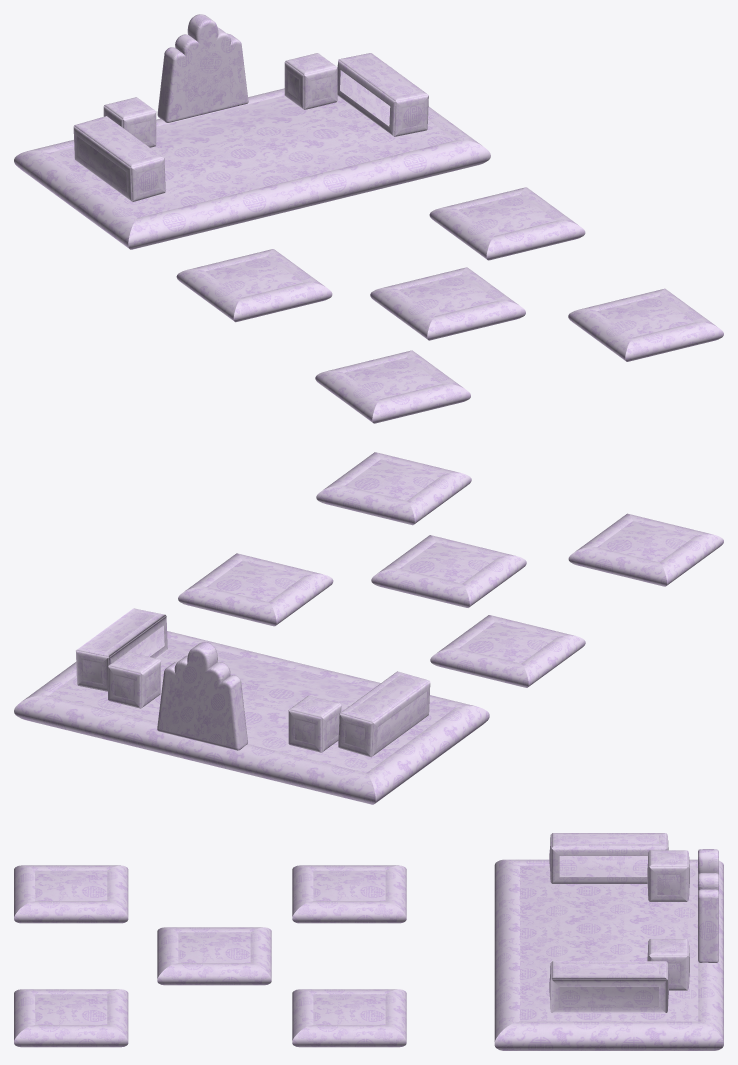
The picture shows the model from 3 angles, top to bottom: view 1: azimuth 30°, elevation 25°; view 2: azimuth 150°, elevation 25°; view 3: azimuth 270°, elevation 25°; orthographic projection.
Visible parts, largest first — view 1: 방석 2; view 2: 방석 2; view 3: 방석 2.
Part boxes in pixels (left/top/right/bottom): 방석 2: left=14, top=14, right=723, bottom=423; 방석 2: left=14, top=452, right=723, bottom=804; 방석 2: left=14, top=833, right=723, bottom=1050.
Size of the model in its own units: 86.74 by 26.65 by 147.
